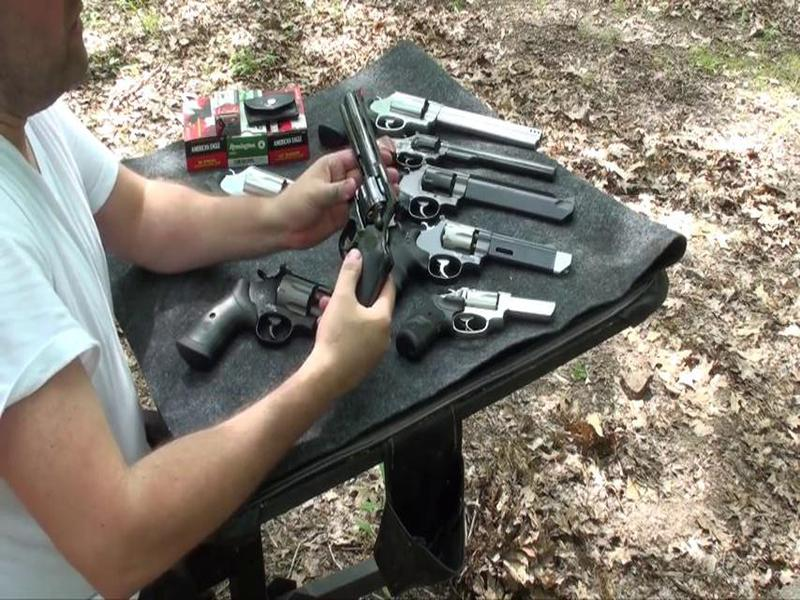Revolver: (298, 80, 418, 330)
